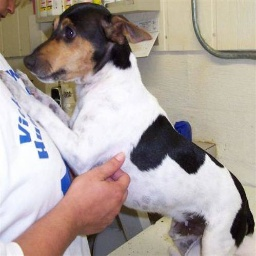dog: (1, 4, 252, 256)
